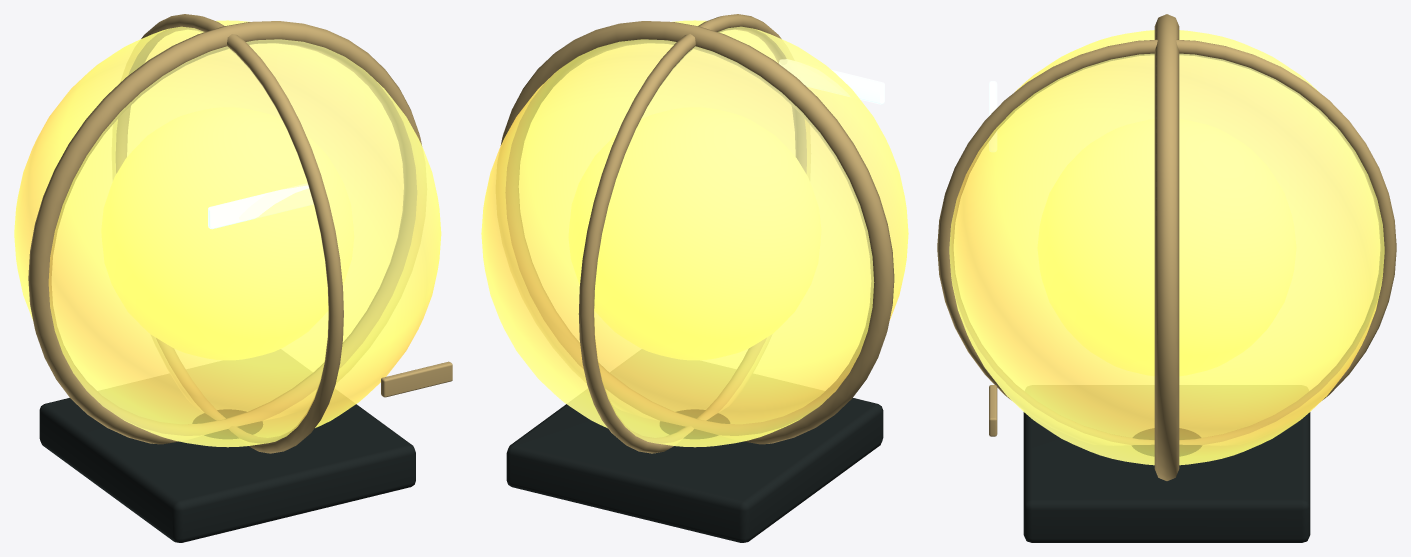
Rendered from age_museum_puzzle_orb_yellow.glb.
3 views of the same model, side by side, from view 1: azimuth 30°, elevation 25°; view 2: azimuth 150°, elevation 25°; view 3: azimuth 270°, elevation 25° (orthographic). The views are drawn at different scales.
Parts seen in each view (by area): view 1: puzzle_orb_yellow_outer_glass, puzzle_orb_yellow_core, puzzle_orb_yellow_base_socket, puzzle_orb_yellow_equator_brass, puzzle_orb_yellow_vertical_brass, puzzle_orb_yellow_cyan_reflection_plate, puzzle_orb_yellow_small_accession_tag; view 2: puzzle_orb_yellow_outer_glass, puzzle_orb_yellow_core, puzzle_orb_yellow_base_socket, puzzle_orb_yellow_equator_brass, puzzle_orb_yellow_vertical_brass, puzzle_orb_yellow_cyan_reflection_plate; view 3: puzzle_orb_yellow_outer_glass, puzzle_orb_yellow_core, puzzle_orb_yellow_base_socket, puzzle_orb_yellow_vertical_brass, puzzle_orb_yellow_equator_brass.
Boxes of the visible parts, bbox=[...] form: puzzle_orb_yellow_outer_glass: bbox=[14, 20, 441, 447]; puzzle_orb_yellow_core: bbox=[101, 107, 353, 359]; puzzle_orb_yellow_base_socket: bbox=[39, 398, 415, 542]; puzzle_orb_yellow_equator_brass: bbox=[28, 21, 421, 444]; puzzle_orb_yellow_vertical_brass: bbox=[115, 14, 343, 453]; puzzle_orb_yellow_cyan_reflection_plate: bbox=[208, 183, 312, 229]; puzzle_orb_yellow_small_accession_tag: bbox=[381, 361, 452, 397]; puzzle_orb_yellow_outer_glass: bbox=[481, 20, 908, 447]; puzzle_orb_yellow_core: bbox=[568, 107, 821, 359]; puzzle_orb_yellow_base_socket: bbox=[506, 398, 883, 542]; puzzle_orb_yellow_equator_brass: bbox=[500, 21, 894, 444]; puzzle_orb_yellow_vertical_brass: bbox=[578, 14, 806, 453]; puzzle_orb_yellow_cyan_reflection_plate: bbox=[779, 59, 884, 104]; puzzle_orb_yellow_outer_glass: bbox=[949, 30, 1384, 465]; puzzle_orb_yellow_core: bbox=[1037, 119, 1296, 375]; puzzle_orb_yellow_base_socket: bbox=[1023, 412, 1310, 542]; puzzle_orb_yellow_vertical_brass: bbox=[937, 39, 1396, 444]; puzzle_orb_yellow_equator_brass: bbox=[1154, 14, 1179, 480].
Bounding box in the file's own units: 0.686 × 0.728 × 0.674.
